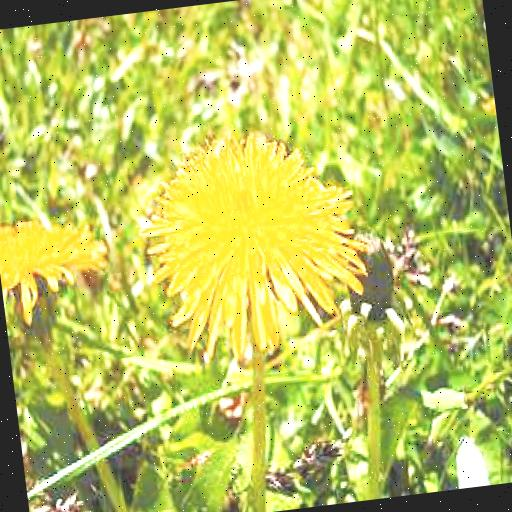dandelion: (129, 114, 374, 365)
